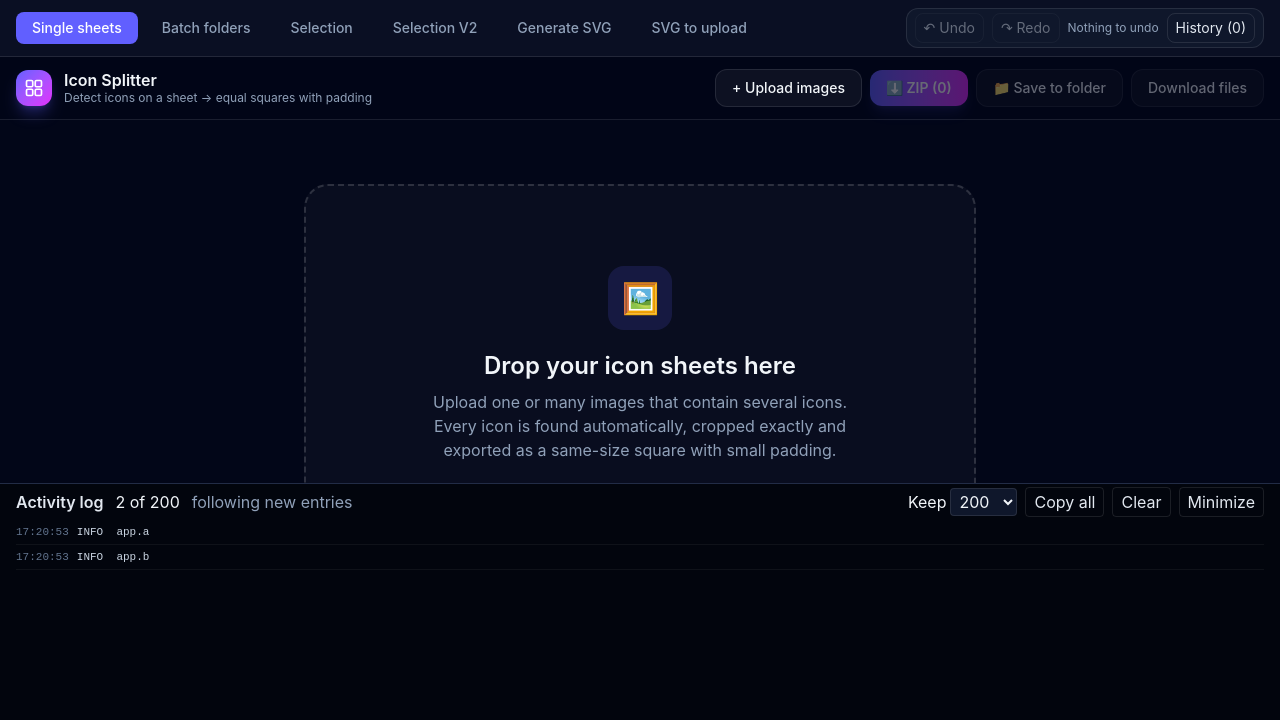
Test: the log dock › clears down to one honest entry, and persists that
Click the button with test id "log-clear" at (1142, 502), box [1112, 487, 1171, 517]
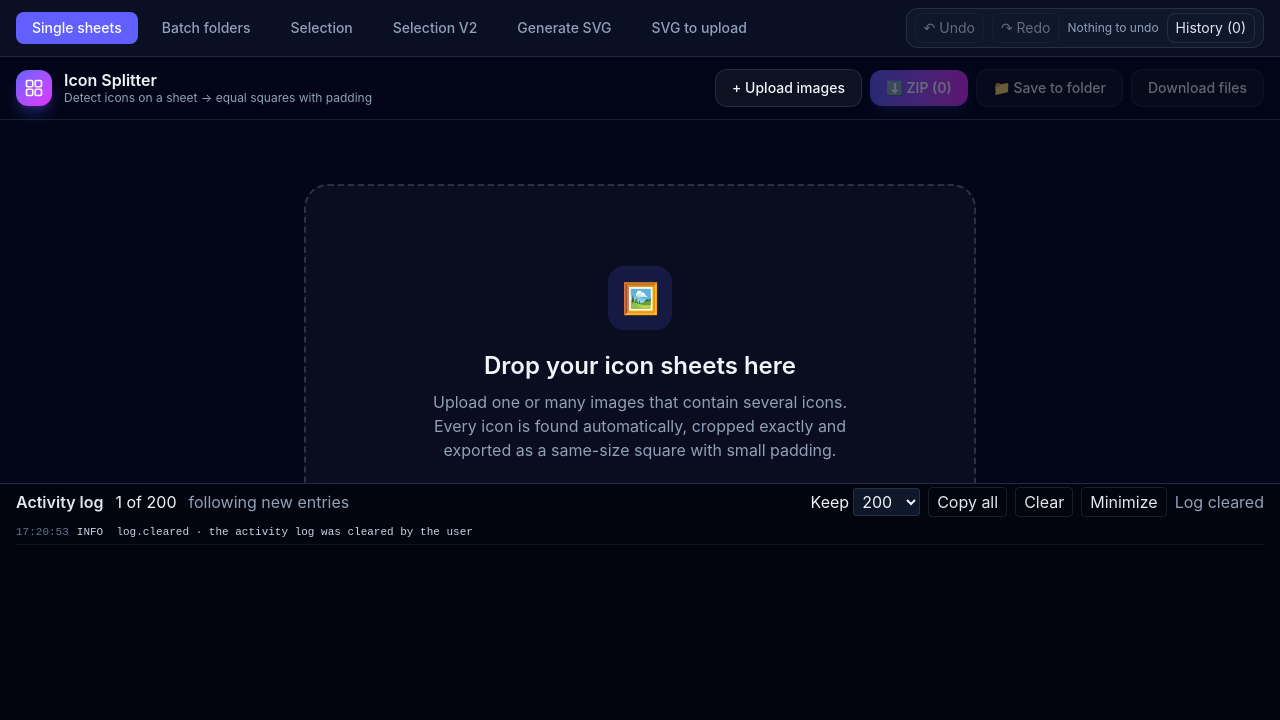
Now the list item with test id "log-entry" shows "log.cleared", box [77, 526, 473, 538]
